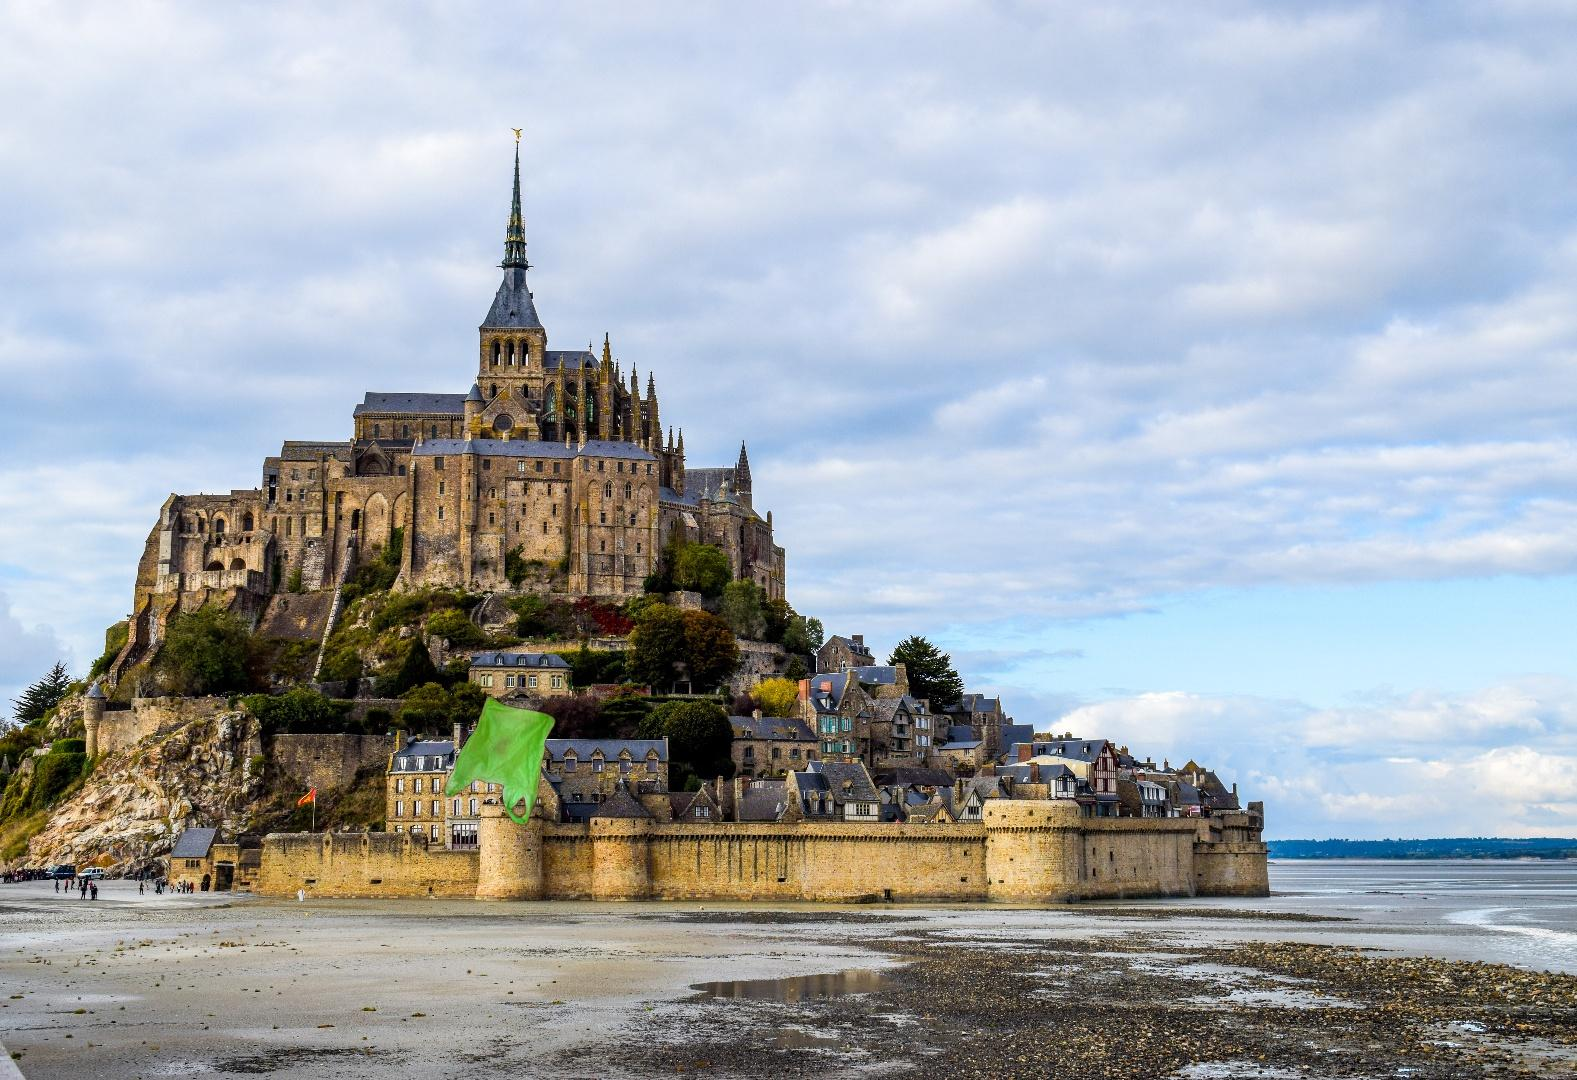plastic-bag: (442, 693, 557, 828)
